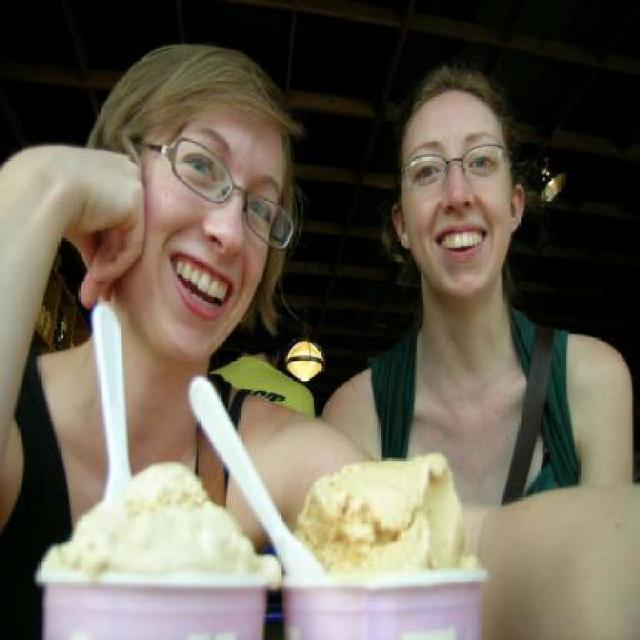Ice cream: (41, 459, 282, 596), (292, 453, 466, 582)
